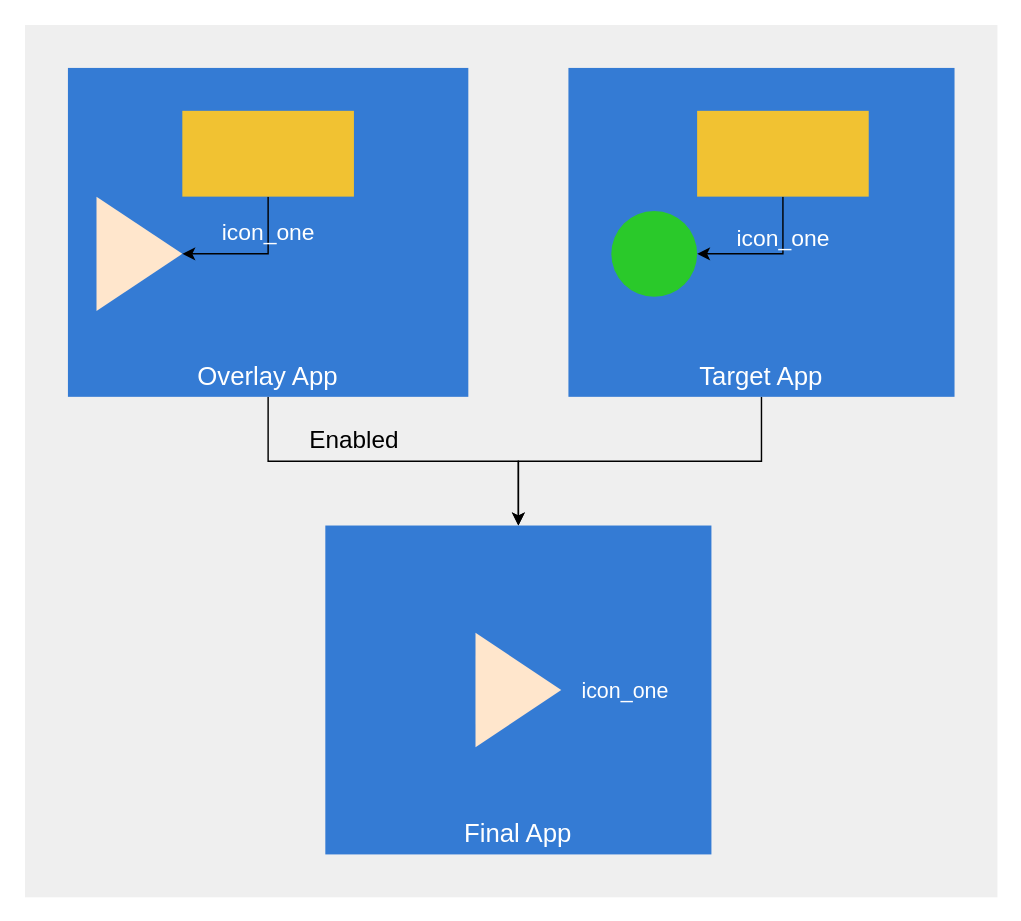
Image size: 1021x921. Some labels were removed from this diagram. Here are the shapes that lost their labels. From the top down, the centre of each, then its label:
point 267,153: Overlay
point 782,153: Overlayable
